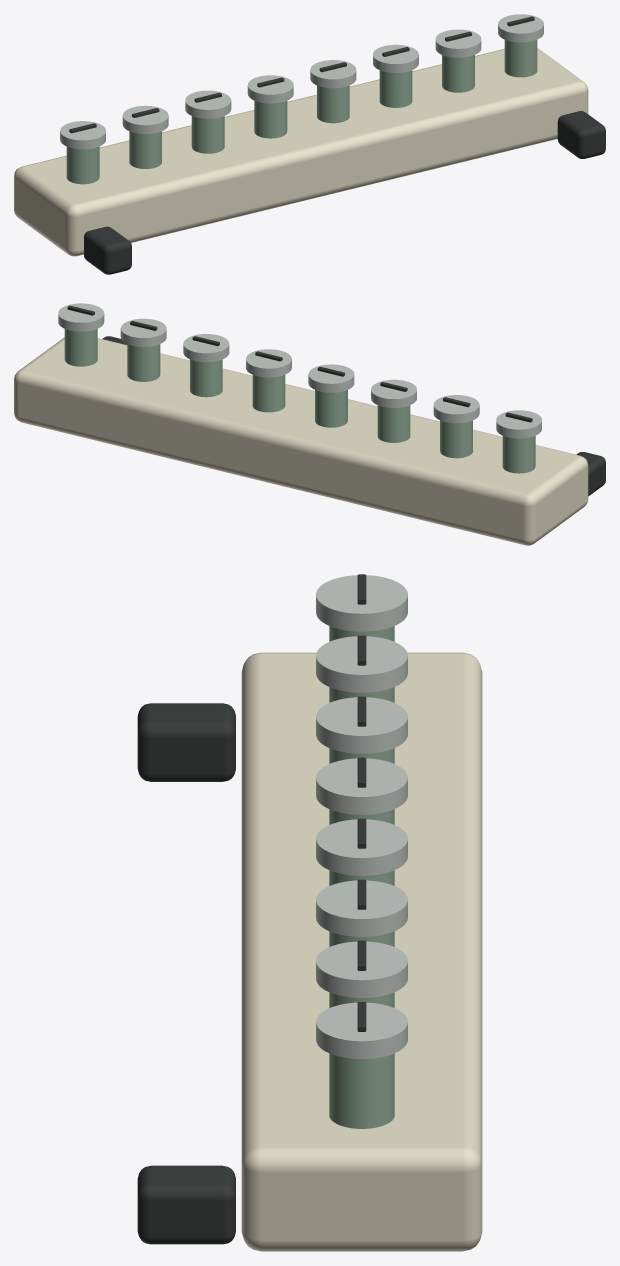
File: abandoned-telephone-exchange-terminal-strip-5a59d234__32001.glb
3 renders of one model, top to bottom at view 1: azimuth 30°, elevation 25°; view 2: azimuth 150°, elevation 25°; view 3: azimuth 270°, elevation 25°, orthographic. The views are drawn at different scales.
Visible parts, largest first — view 1: terminal-strip; view 2: terminal-strip; view 3: terminal-strip.
Part boxes in pixels (x1=…): terminal-strip: x1=14, y1=14, x2=605, y2=274; terminal-strip: x1=14, y1=303, x2=605, y2=545; terminal-strip: x1=137, y1=574, x2=482, y2=1251.
Size of the model in its own units: 0.55 by 0.103 by 0.1575.
